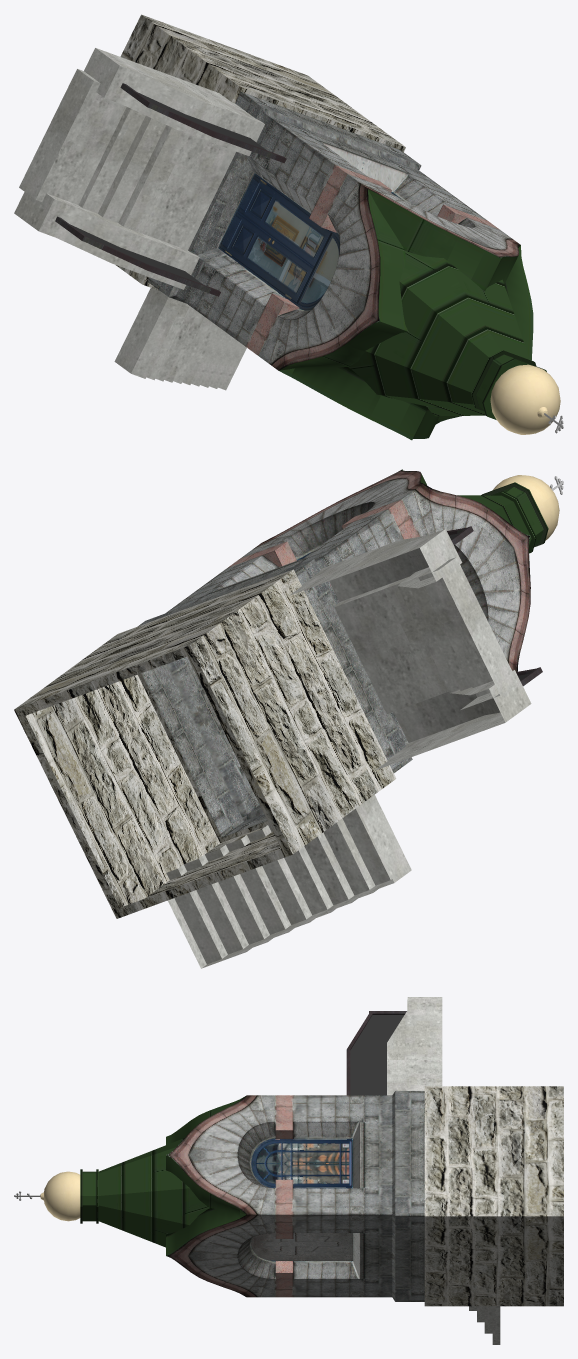
File: Pikk_32.obj
3 renders of one model, top to bottom at view 1: azimuth 30°, elevation 25°; view 2: azimuth 150°, elevation 25°; view 3: azimuth 270°, elevation 25°, orthographic. The views are drawn at different scales.
Parts seen in each view (by area): view 1: Pikk_32; view 2: Pikk_32; view 3: Pikk_32.
Part boxes in pixels (x1,y1,x2,y2): Pikk_32: [14, 14, 563, 440]; Pikk_32: [14, 469, 563, 968]; Pikk_32: [14, 997, 563, 1344].
Bounding box in the file's own units: 6.77 × 6.97 × 11.98.
